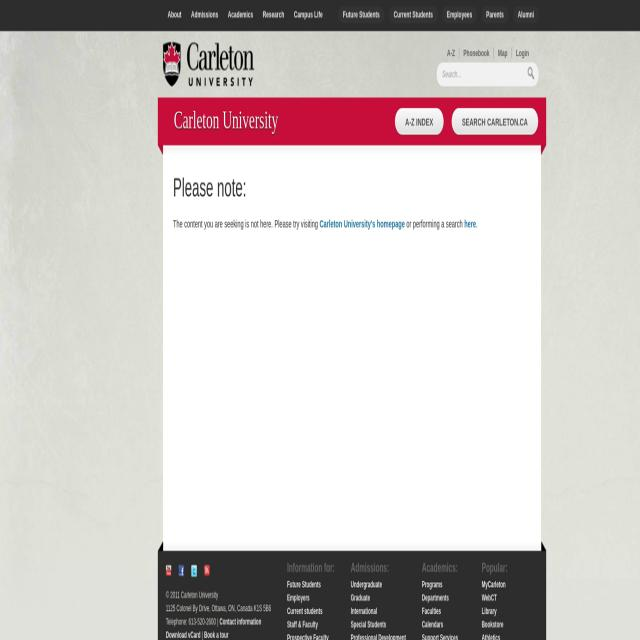button: (163, 42, 254, 87), (452, 108, 538, 135), (394, 108, 444, 135), (186, 2, 224, 32), (289, 2, 327, 30), (223, 2, 258, 32), (258, 2, 289, 30), (388, 6, 438, 23), (338, 6, 384, 23), (163, 2, 186, 31), (442, 6, 477, 23), (513, 6, 539, 23), (482, 6, 508, 23), (528, 67, 536, 82), (204, 564, 210, 578), (178, 564, 184, 577), (166, 564, 172, 577), (191, 565, 197, 577)
field: (436, 62, 538, 86)
